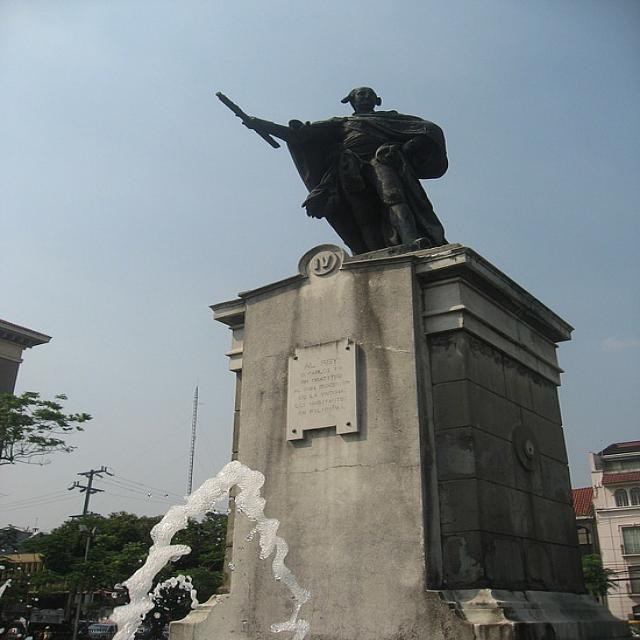San Agustin Church: (163, 82, 630, 639)
